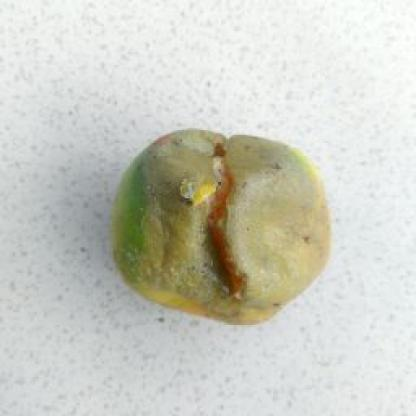orange_rotten: (107, 129, 338, 330)
